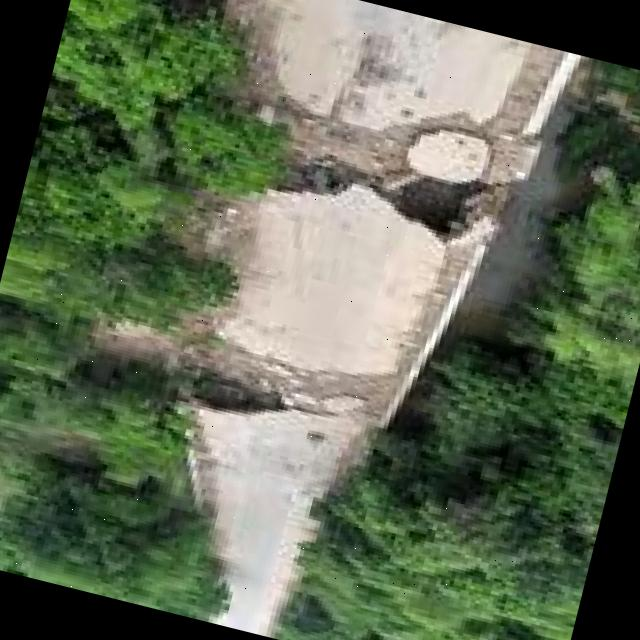road collapse: (15, 0, 604, 534)
